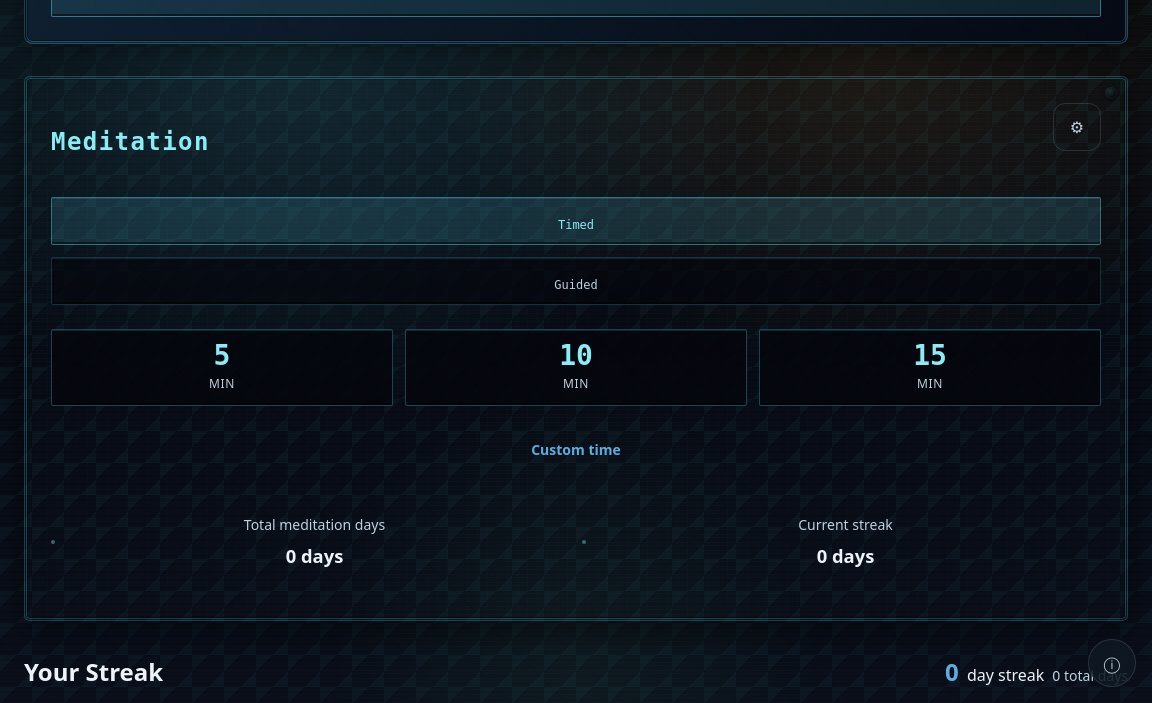
Scenario: dashboard guided meditation › lets you pick a guided file from the dashboard and start a guided session
(page scrolled)
Click the button with test id "dashboard-timer-mode-guided".
click(576, 281)  # box [51, 257, 1101, 305]
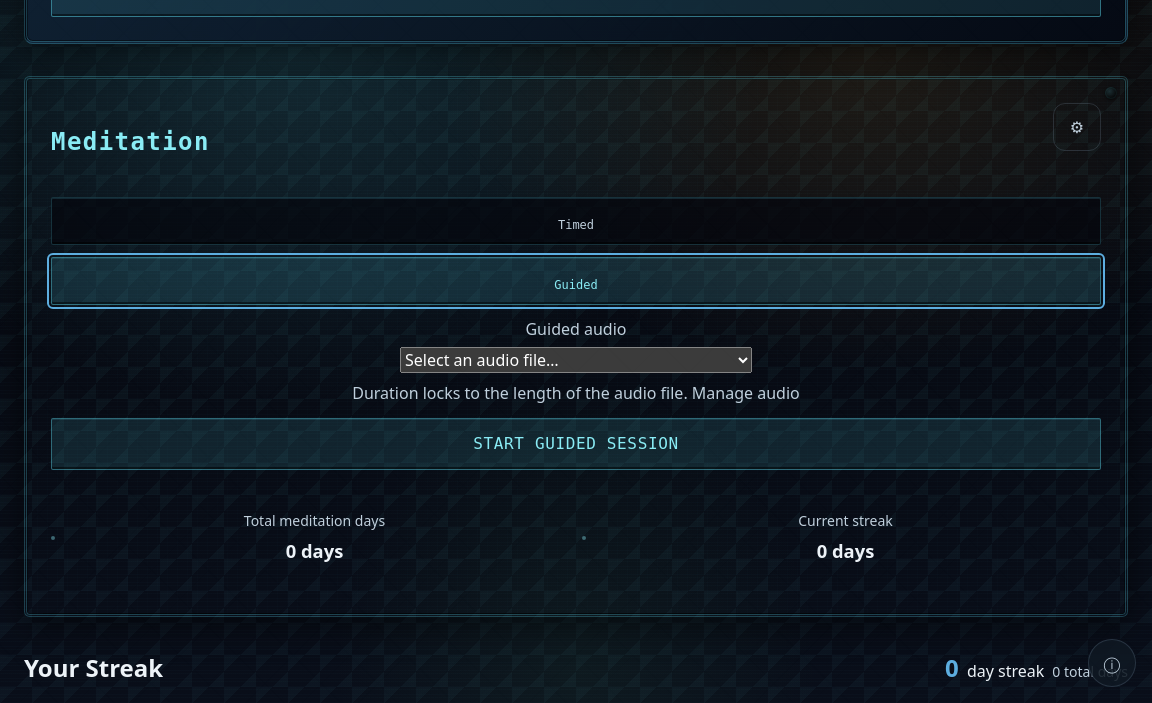
Expected: the button with test id "dashboard-timer-start-guided" is disabled, [51, 418, 1101, 470]
Select "Dashboard Breathwork" in the dropdown with test id "dashboard-guided-audio-select" at (576, 360), box [400, 347, 752, 373]
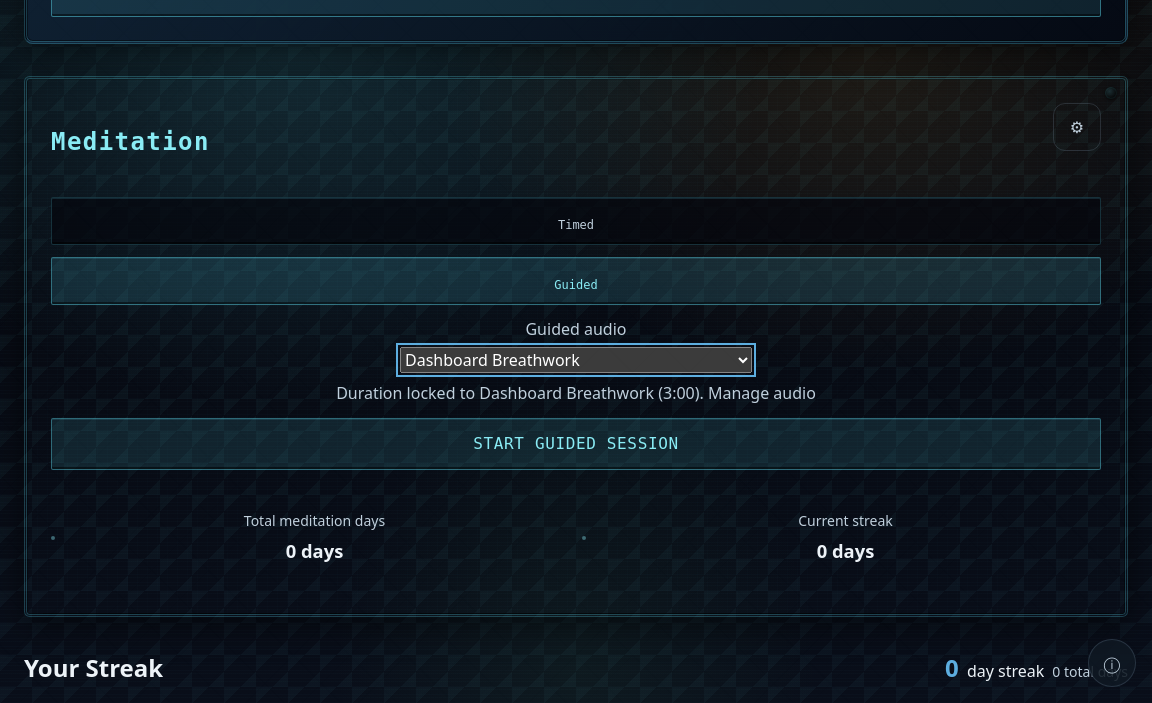
Click the button with test id "dashboard-timer-start-guided".
click(576, 444)  # box [51, 418, 1101, 470]
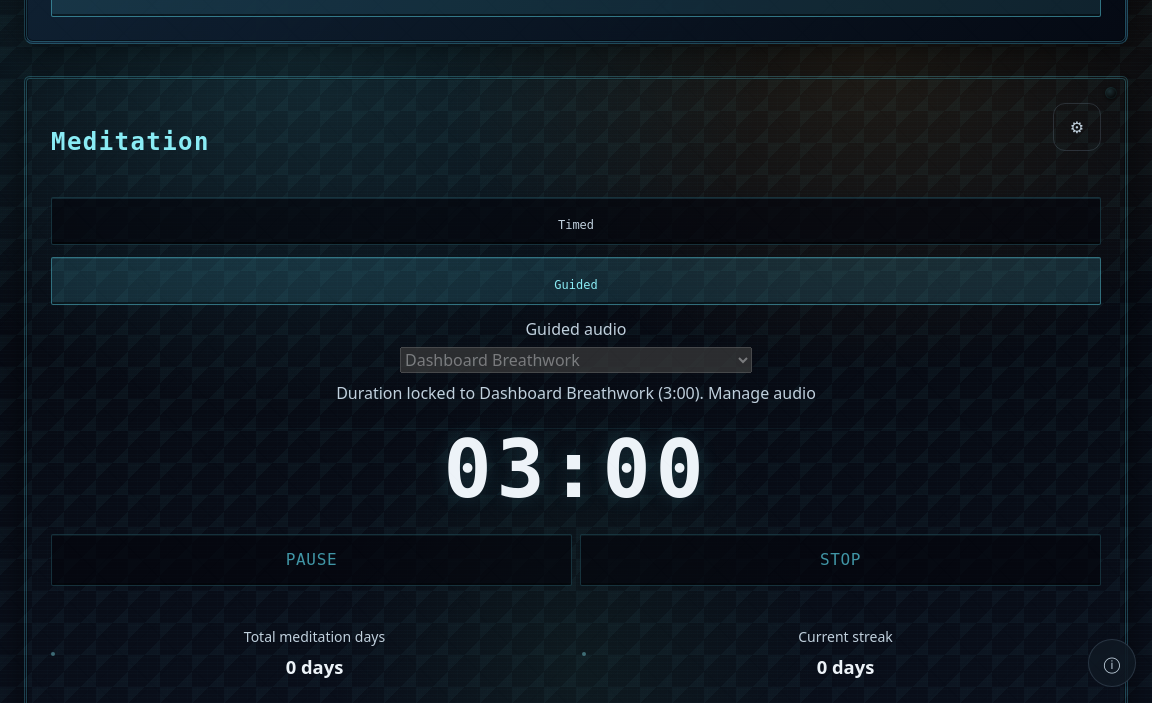
Expected: the text "03:00" is shown, [444, 423, 708, 516]
